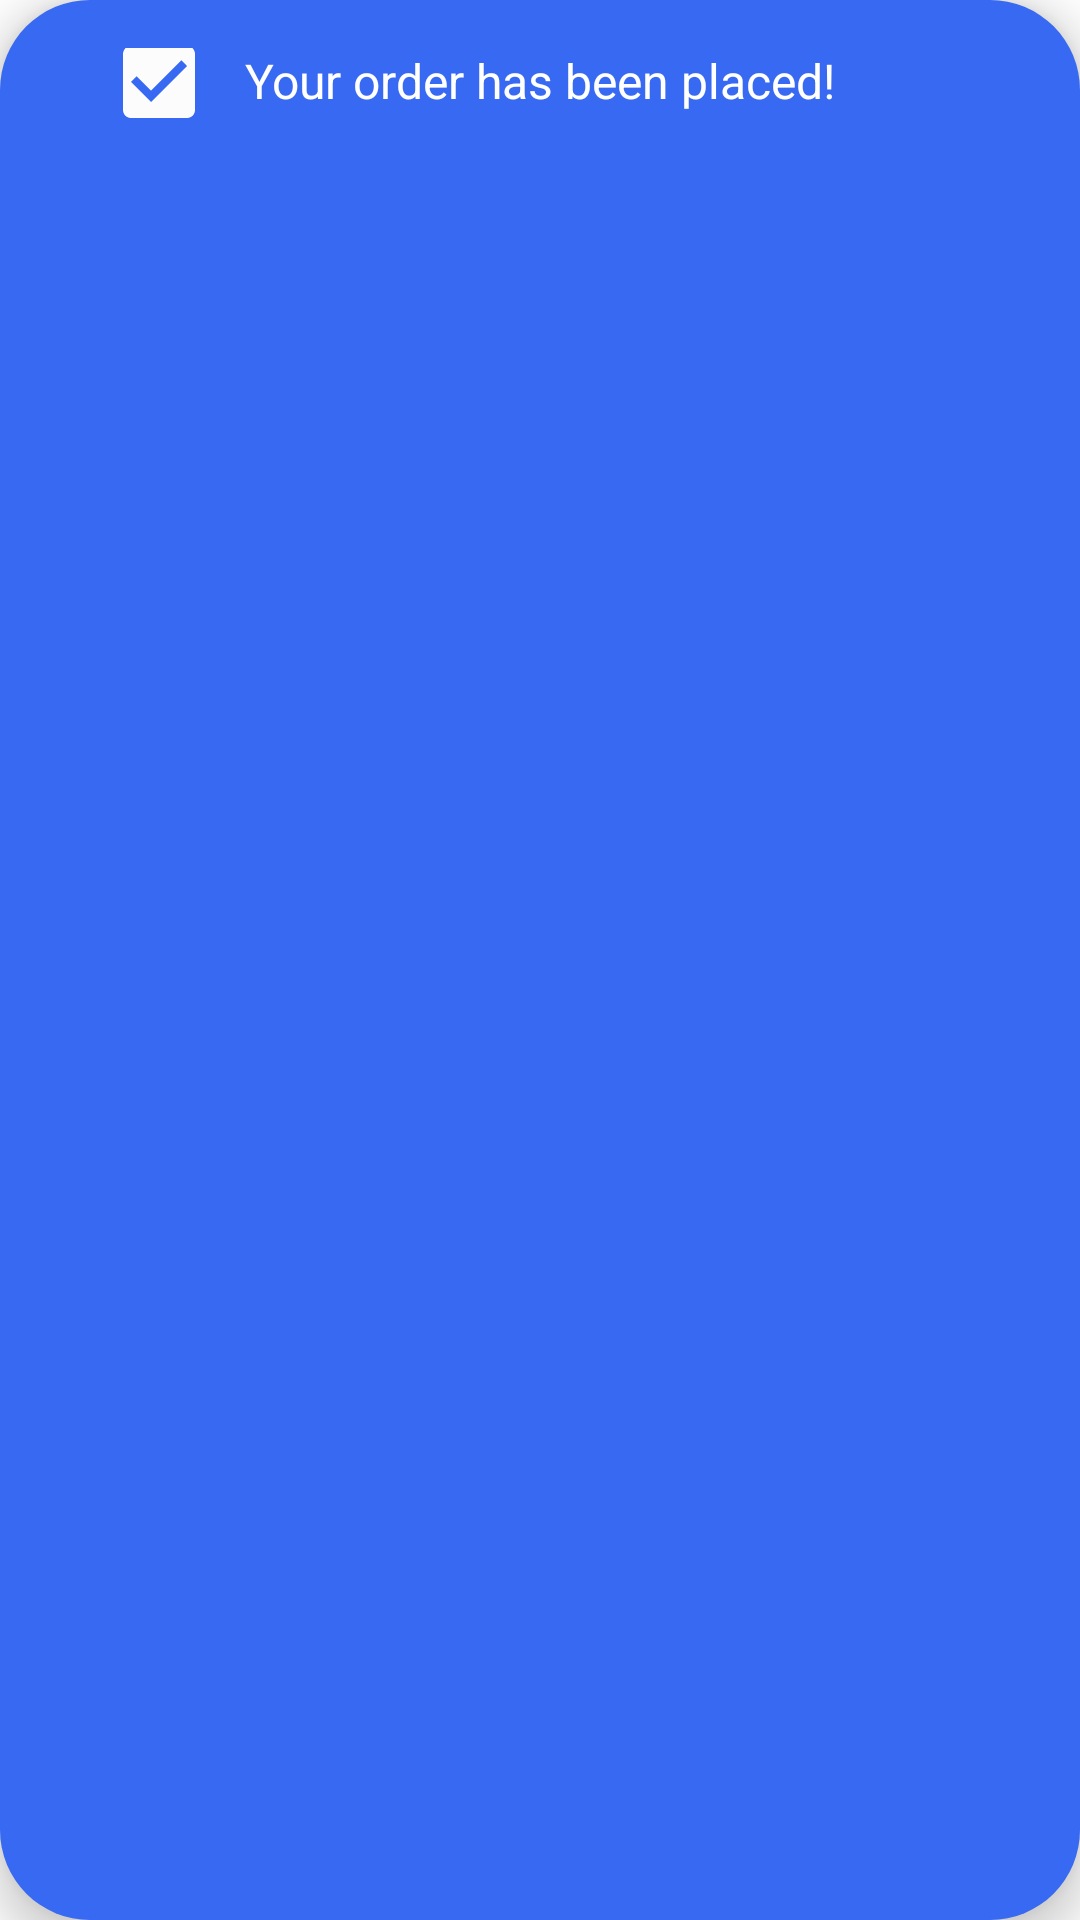

Icon click points for this 1080w x 1920h phone screenshot, format (x,y):
check box: (159,83)
